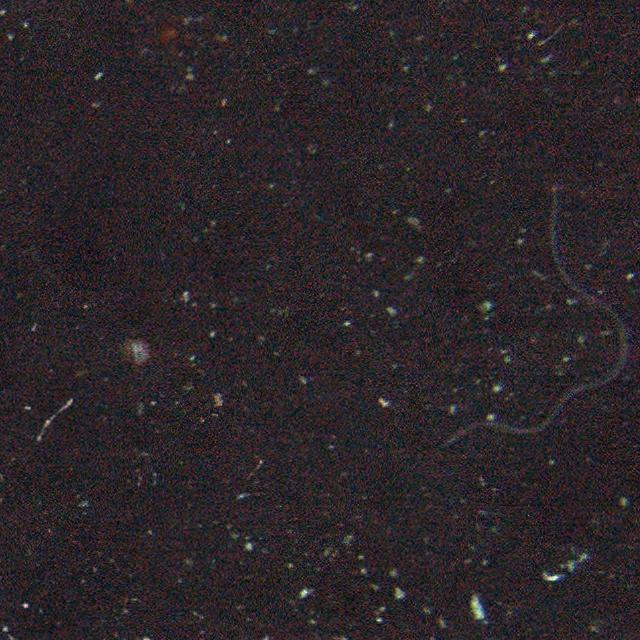eel: (436, 183, 632, 457)
